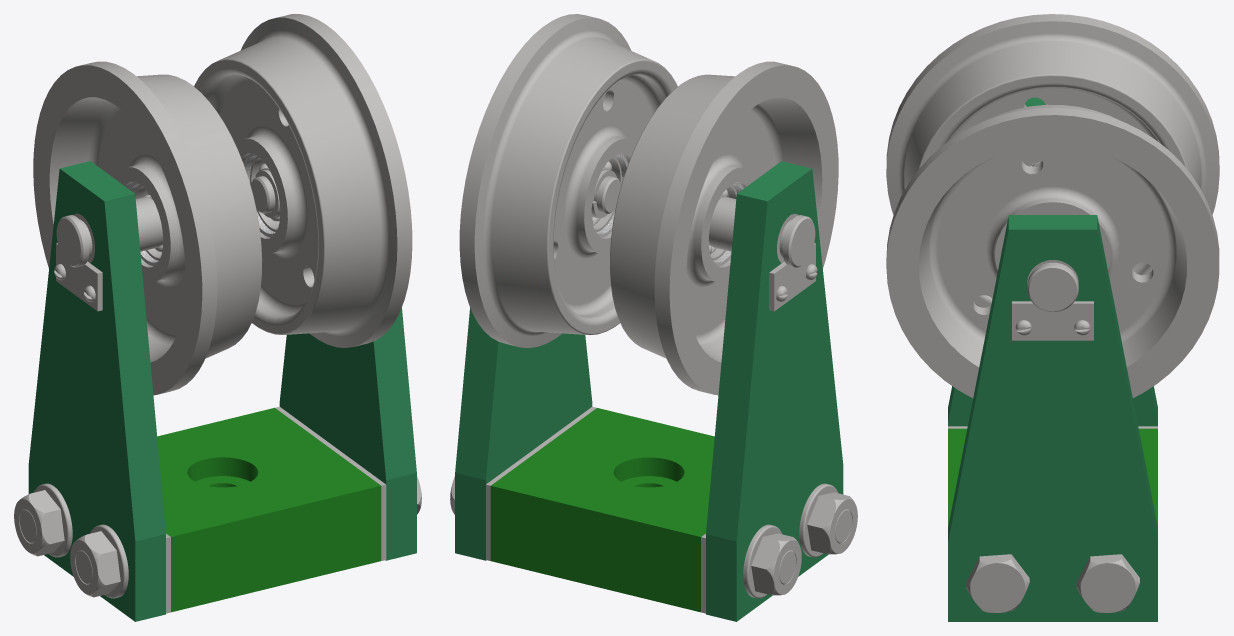
3 renders of one model, left to right at view 1: azimuth 30°, elevation 25°; view 2: azimuth 150°, elevation 25°; view 3: azimuth 270°, elevation 25°, orthographic.
Visible parts, largest first — view 1: Solid1 (×14); view 2: Solid1 (×14); view 3: Solid1 (×9).
Boxes of the visible parts, bbox=[...] form: Solid1 (×14): bbox=[14, 14, 421, 621]; Solid1 (×14): bbox=[450, 14, 857, 621]; Solid1 (×9): bbox=[886, 14, 1219, 621].
Bounding box in the file's own units: 0.2 × 0.2935 × 0.181.
Materials: 4 (1 with a texture image).
